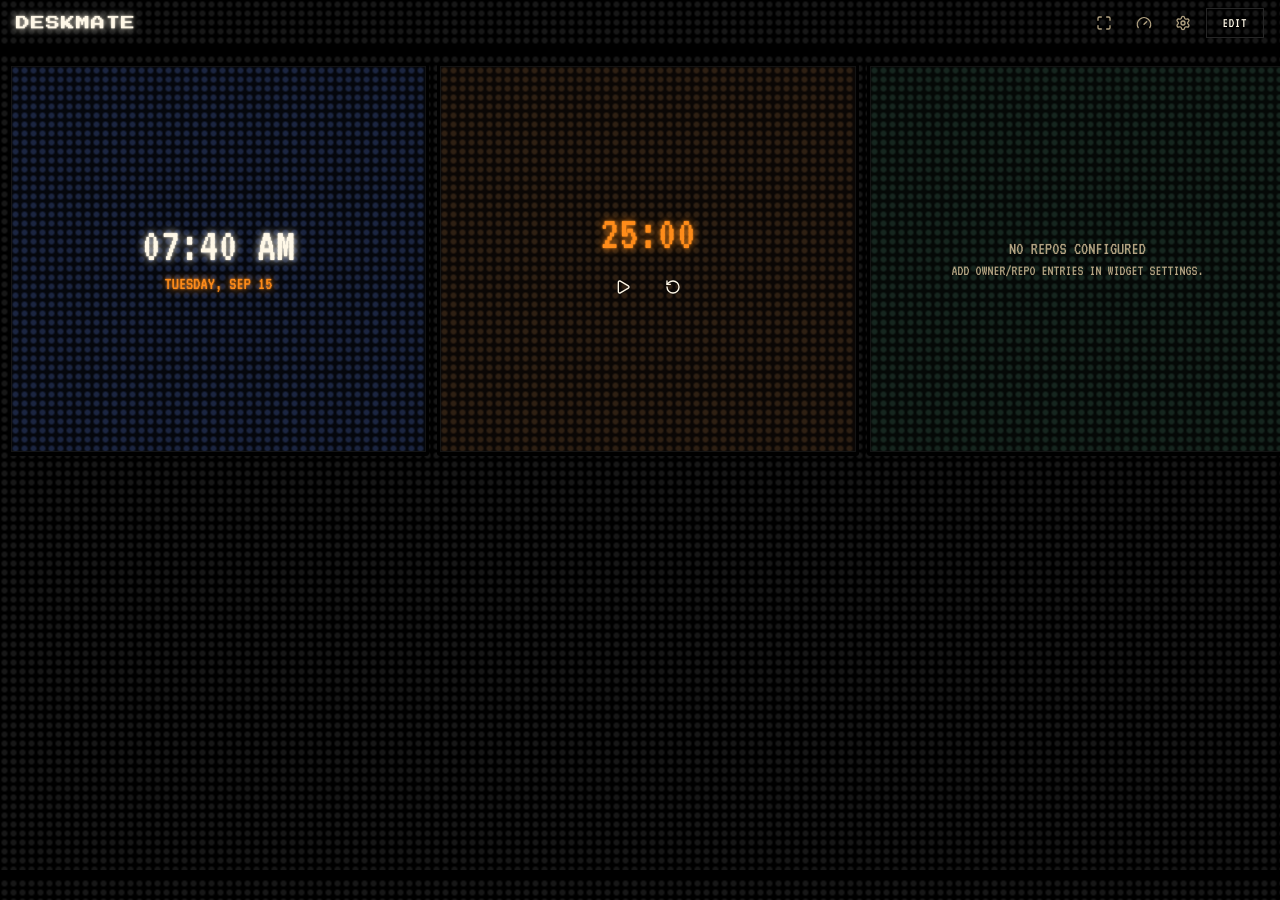
Scenario: App shell › reveals Add Widget and widget chrome only in edit mode
Expected: the element with test id "clock-time" is shown, [142, 222, 295, 270]
Expected: the text "Add Widget" is not shown
Step 1. Click the button "Edit" → x=1235, y=23, box [1206, 8, 1264, 38]
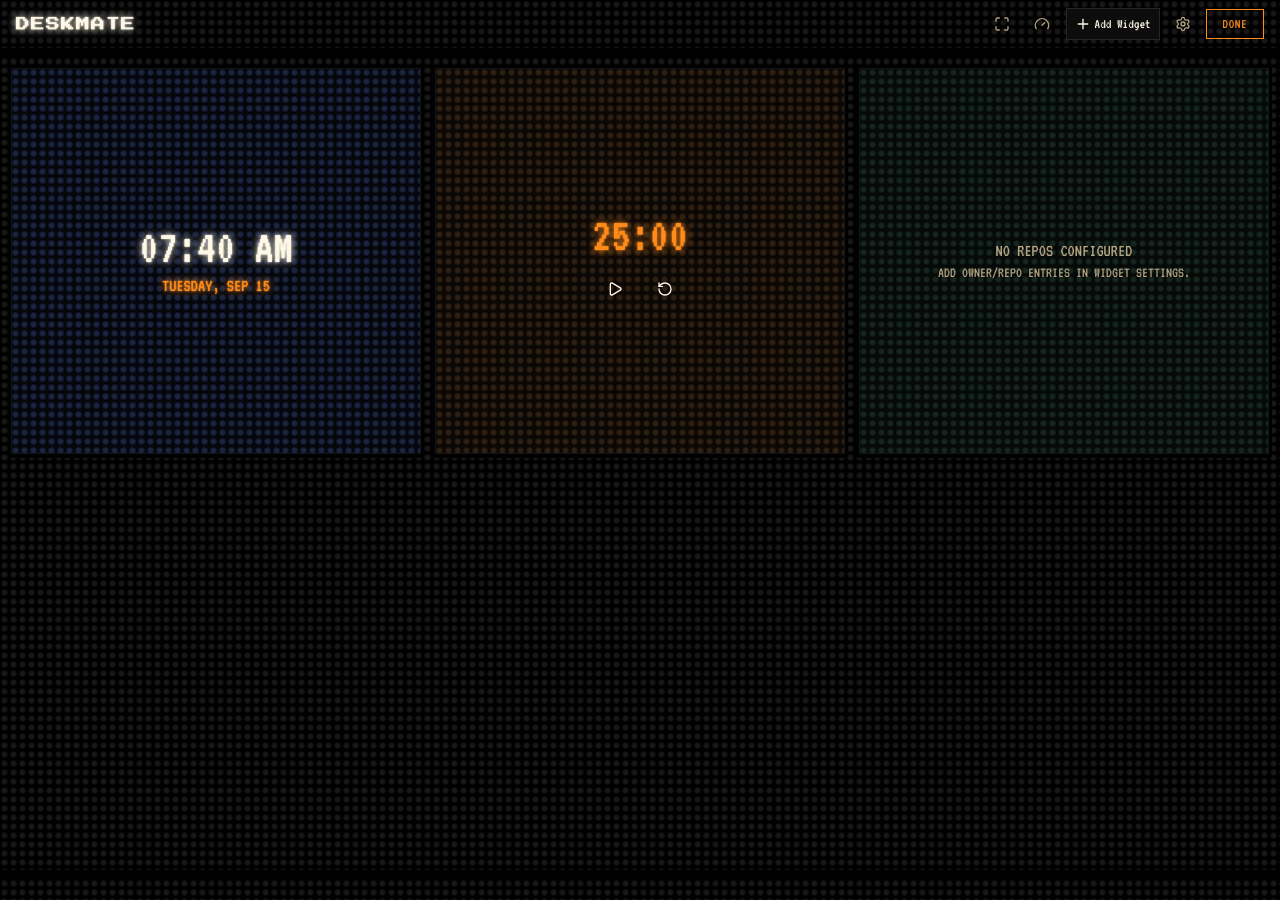
Expected: the button "Add Widget" is shown, [1066, 8, 1160, 40]
Expected: the button "Done" is shown, [1206, 9, 1264, 39]
